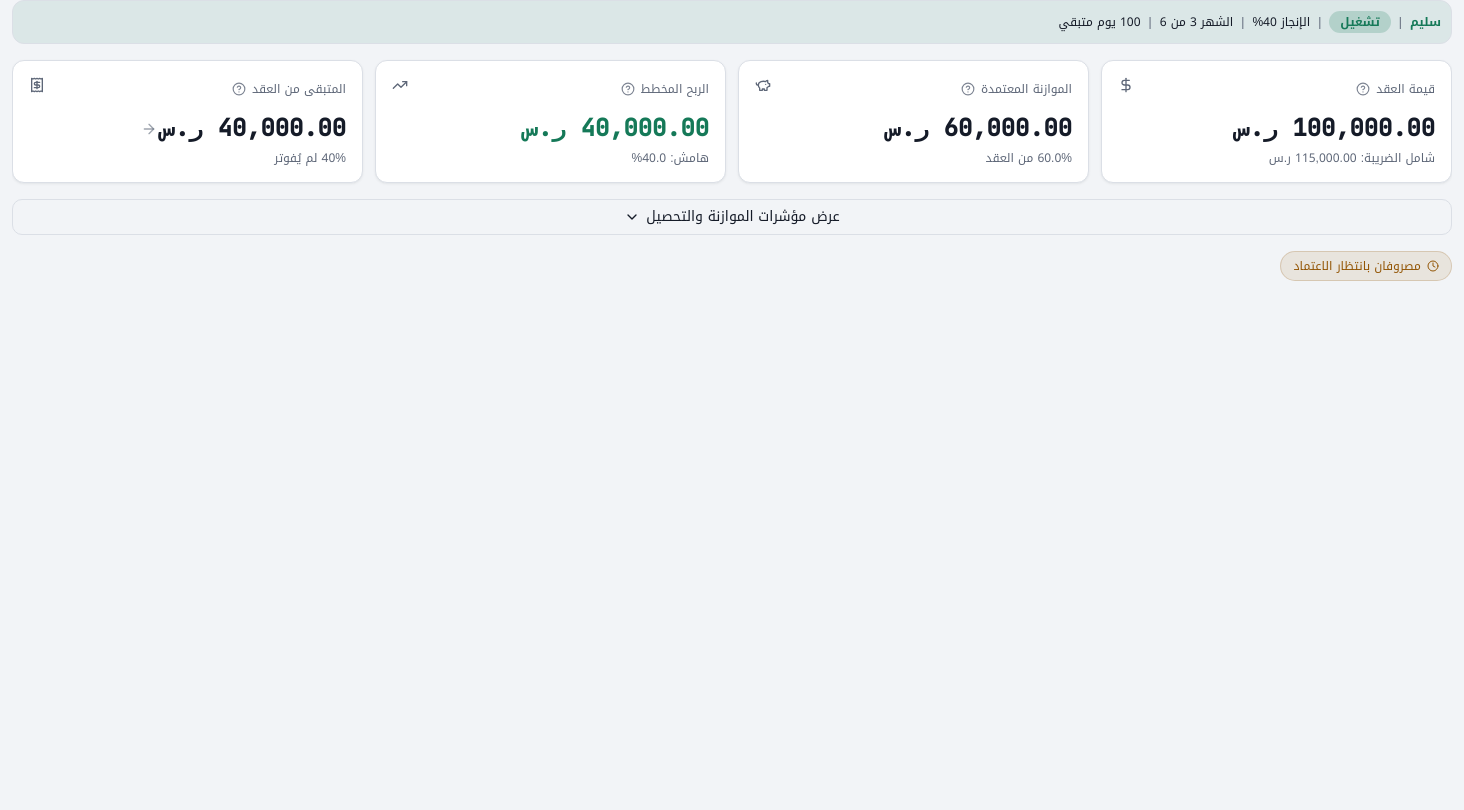
Test: on a phone › folds the budget and collection rows behind one button, and keeps the contract and alerts in view
This screenshot has width=1464, height=810.
Check: the text "قيمة العقد" is shown, box x1=1376 y1=81 x2=1435 y2=97
Check: the text "المحصّل فعلياً" is not shown
Step 1. Click the button "عرض مؤشرات الموازنة والتحصيل" → click(732, 217), box x1=12 y1=199 x2=1452 y2=235
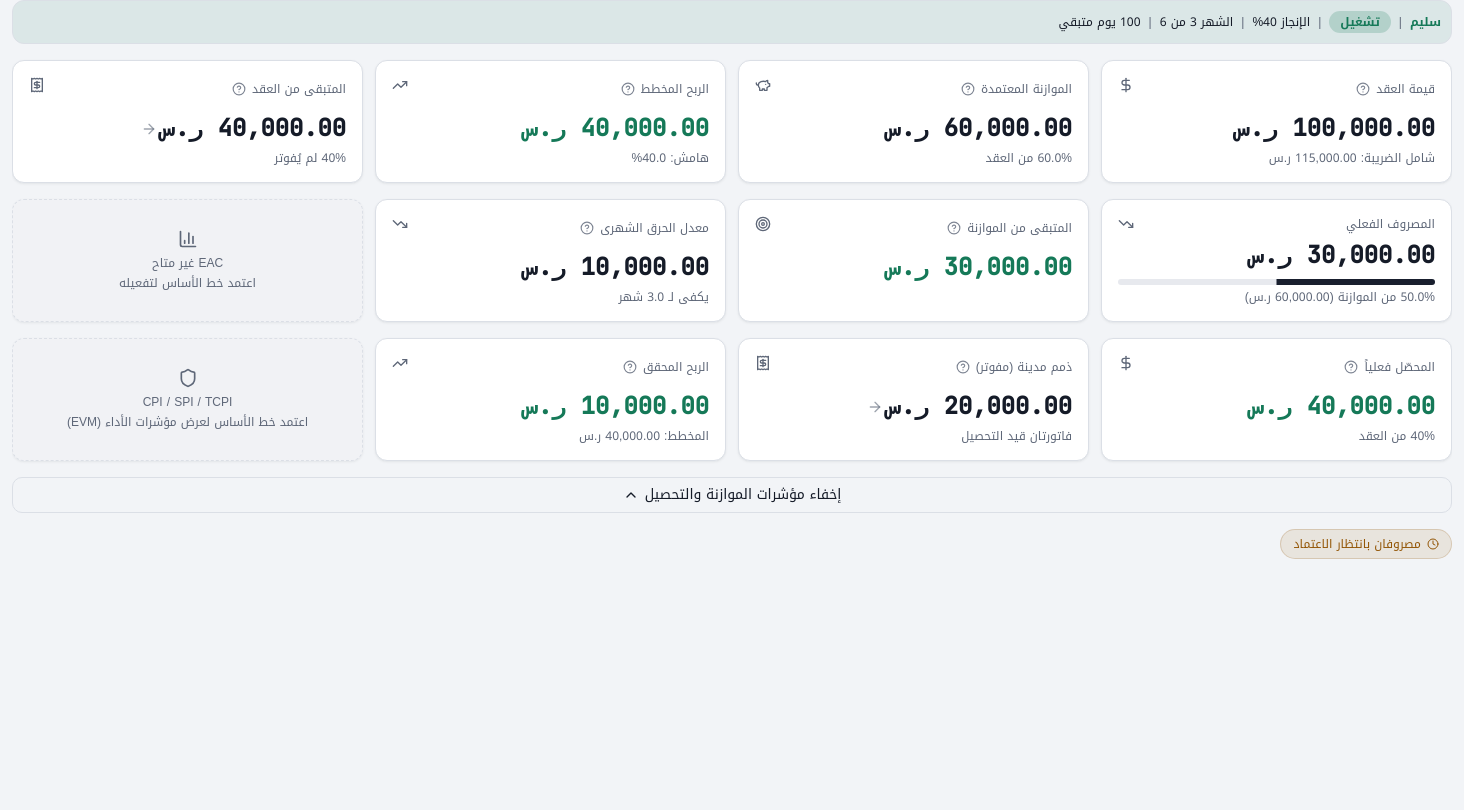
Check: the text "المحصّل فعلياً" is shown, box x1=1364 y1=359 x2=1435 y2=375
Check: the button "إخفاء مؤشرات الموازنة والتحصيل" is expanded, box x1=12 y1=477 x2=1452 y2=513
